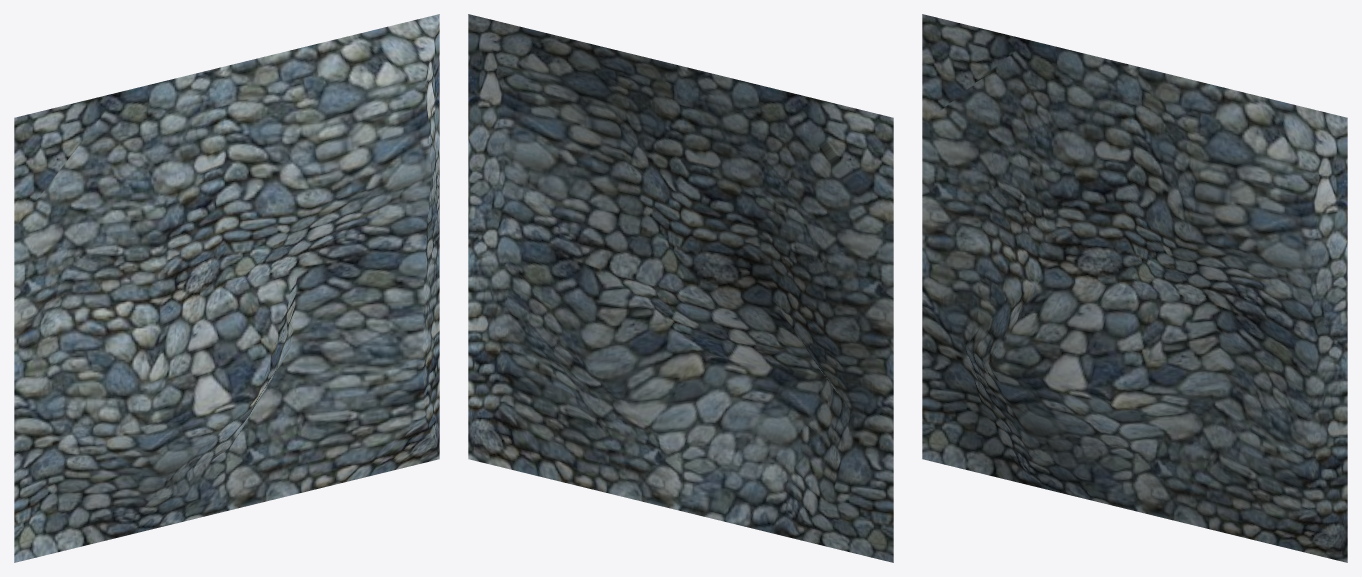
The model's file is ground_steep_1.obj.
3 renders of one model, left to right at view 1: azimuth 30°, elevation 25°; view 2: azimuth 150°, elevation 25°; view 3: azimuth 330°, elevation 25°, orthographic.
Size of the model in its own units: 2 by 2 by 0.3572.
